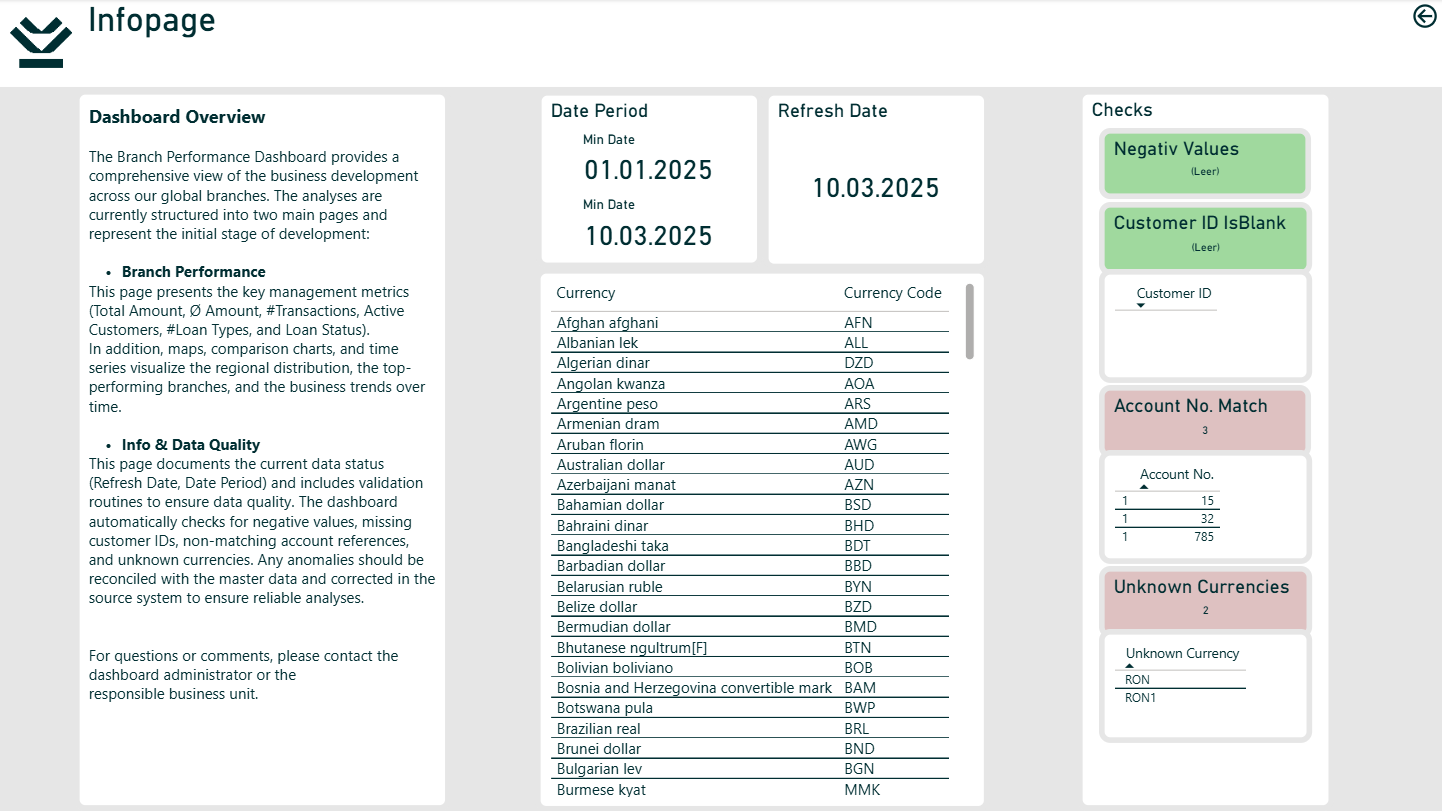

The dashboard page shown, as its layout file describes it:
{"tool":"powerbi","page":{"name":"Info","canvas":[1280,720],"ordinal":1},"visuals":[{"type":"textbox","title":"Infopage","box":[73.7,0,1206.3,78.1],"z":0},{"type":"textbox","title":"Checks","box":[956,79.7,228.5,640.4],"z":0,"group":"g1"},{"type":"textbox","title":"Date Period","box":[476.5,80.8,200.9,158.5],"z":0,"group":"g3"},{"type":"tableEx","fields":{"Values":["dim_currencies.currency","dim_currencies.currency_iso_code"]},"box":[475.5,238.2,402.8,481.5],"z":2000},{"type":"image","box":[0,0,73.7,78.1],"z":3000},{"type":"group","id":"g1","title":"Gruppe 1","box":[956,79.7,229.1,640],"z":4000},{"type":"card","title":"Min Date","fields":{"Values":["Min(dim_date.Date)"]},"box":[513,118.1,127.1,51.6],"z":4000,"group":"g3"},{"type":"actionButton","box":[1249.7,0,30.3,30.3],"z":5000},{"type":"card","title":"Min Date","fields":{"Values":["Max(dim_date.Date)"]},"box":[513,176,127.1,52.9],"z":5000,"group":"g3"},{"type":"group","id":"g2","title":"Gruppe 2","box":[677.4,80.8,201.9,158.5],"z":6000},{"type":"textbox","title":"Refresh Date","box":[677.4,80.8,201.4,158.6],"z":6000,"group":"g2"},{"type":"group","id":"g3","title":"Gruppe 3","box":[476.5,80.8,200.9,158.5],"z":7000},{"type":"card","title":" ","fields":{"Values":["dim_date.Refresh"]},"box":[713.9,133.7,127.1,51.6],"z":7000,"group":"g2"},{"type":"textbox","box":[66.6,79.7,334.1,640],"z":8000},{"type":"card","title":"Customer ID IsBlank","fields":{"Values":["stg_customers.MissingCustomerID"]},"box":[975.9,180,189.4,64.7],"z":9000,"group":"g1"},{"type":"card","title":"Unknown Currencies","fields":{"Values":["dim_currencies.UnknownCurrencies"]},"box":[975.9,502.7,189.4,63.6],"z":10000,"group":"g1"},{"type":"card","title":"Negativ Values","fields":{"Values":["stg_transactions.NegativValues"]},"box":[975.9,114.2,188.3,62.5],"z":11000,"group":"g1"},{"type":"card","title":"Account No. Match","fields":{"Values":["transactions.NoAccount"]},"box":[975.9,342.5,188.3,64.7],"z":12000,"group":"g1"},{"type":"tableEx","fields":{"Values":["transactions.NoAccount","transactions.account_id"]},"box":[975.9,399.5,189.4,101],"z":13000,"group":"g1"},{"type":"tableEx","fields":{"Values":["dim_currencies.UnknownCurrencies","transactions.transaction_currency"]},"box":[975.9,558.6,189.4,101],"z":14000,"group":"g1"},{"type":"tableEx","fields":{"Values":["dim_customers.MissingCustomerID","dim_customers.customer_id"]},"box":[975.9,239.3,189.4,101],"z":15000,"group":"g1"}]}

Visuals, with their boxes in screenshot pixels (x1, y1, x2, y2), scaled from the page's 1280x720 canvas onto the 1442x811 screenshot:
"Infopage" textbox: bbox=(83, 0, 1441, 88)
"Checks" textbox: bbox=(1077, 90, 1334, 810)
"Date Period" textbox: bbox=(537, 91, 763, 270)
tableEx - dim_currencies.currency x dim_currencies.currency_iso_code: bbox=(536, 268, 989, 810)
image: bbox=(0, 0, 83, 88)
"Gruppe 1" group: bbox=(1077, 90, 1335, 810)
"Min Date" card: bbox=(578, 133, 721, 191)
actionButton: bbox=(1408, 0, 1441, 34)
"Min Date" card: bbox=(578, 198, 721, 258)
"Gruppe 2" group: bbox=(763, 91, 991, 270)
"Refresh Date" textbox: bbox=(763, 91, 990, 270)
"Gruppe 3" group: bbox=(537, 91, 763, 270)
" " card: bbox=(804, 151, 947, 209)
textbox: bbox=(75, 90, 451, 810)
"Customer ID IsBlank" card: bbox=(1099, 203, 1313, 276)
"Unknown Currencies" card: bbox=(1099, 566, 1313, 638)
"Negativ Values" card: bbox=(1099, 129, 1312, 199)
"Account No. Match" card: bbox=(1099, 386, 1312, 459)
tableEx - transactions.NoAccount x transactions.account_id: bbox=(1099, 450, 1313, 564)
tableEx - dim_currencies.UnknownCurrencies x transactions.transaction_currency: bbox=(1099, 629, 1313, 743)
tableEx - dim_customers.MissingCustomerID x dim_customers.customer_id: bbox=(1099, 270, 1313, 383)
